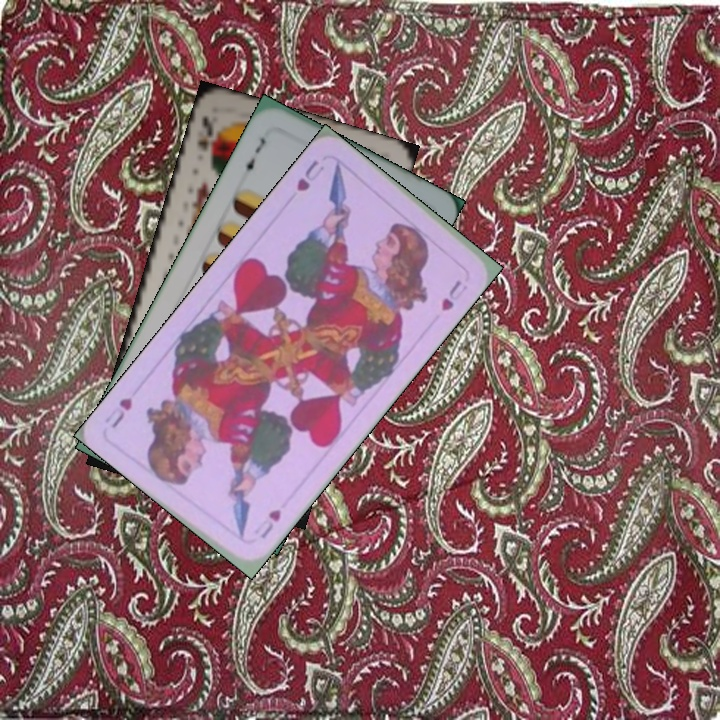E7: (238, 133, 269, 178)
HU: (292, 155, 327, 195), (256, 505, 284, 541)
SK: (192, 112, 221, 164)
